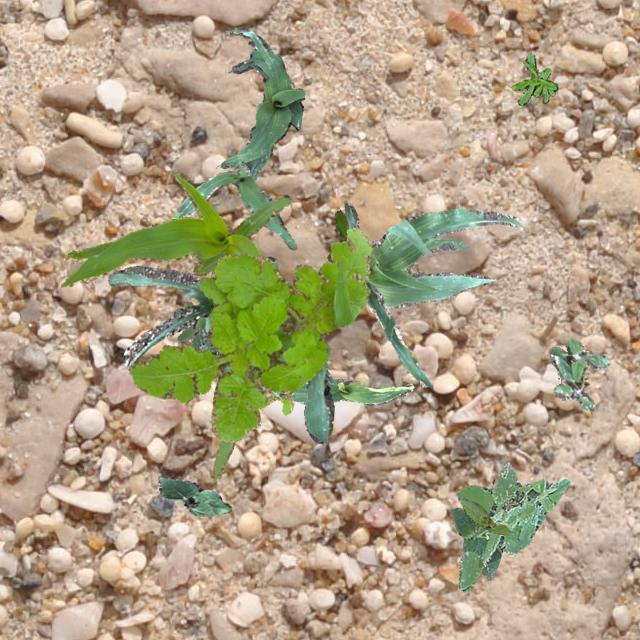crop: (61, 172, 290, 480), (108, 255, 334, 442), (343, 202, 521, 388), (220, 27, 304, 180), (170, 160, 296, 248), (290, 368, 414, 404), (449, 506, 502, 578), (157, 474, 230, 514), (460, 498, 510, 534)
weed: (128, 226, 372, 442), (456, 462, 568, 590), (550, 336, 610, 409), (172, 300, 218, 356), (511, 52, 556, 104), (327, 208, 348, 260), (264, 388, 292, 414)
